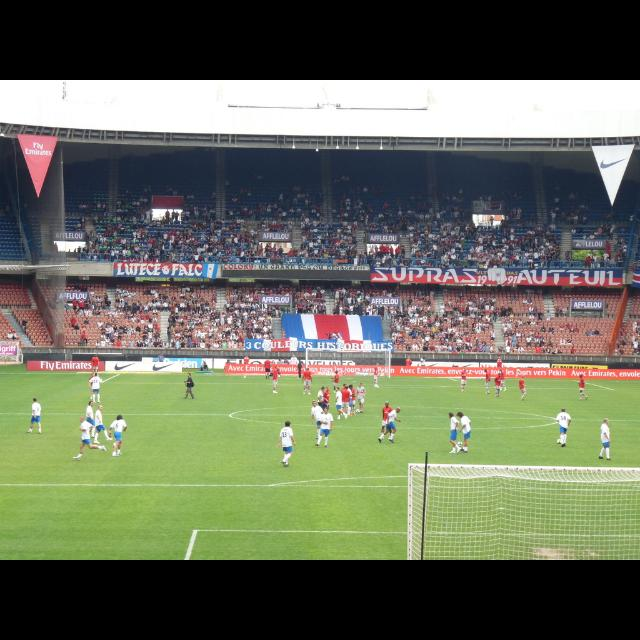Football: (458, 439, 460, 445)
